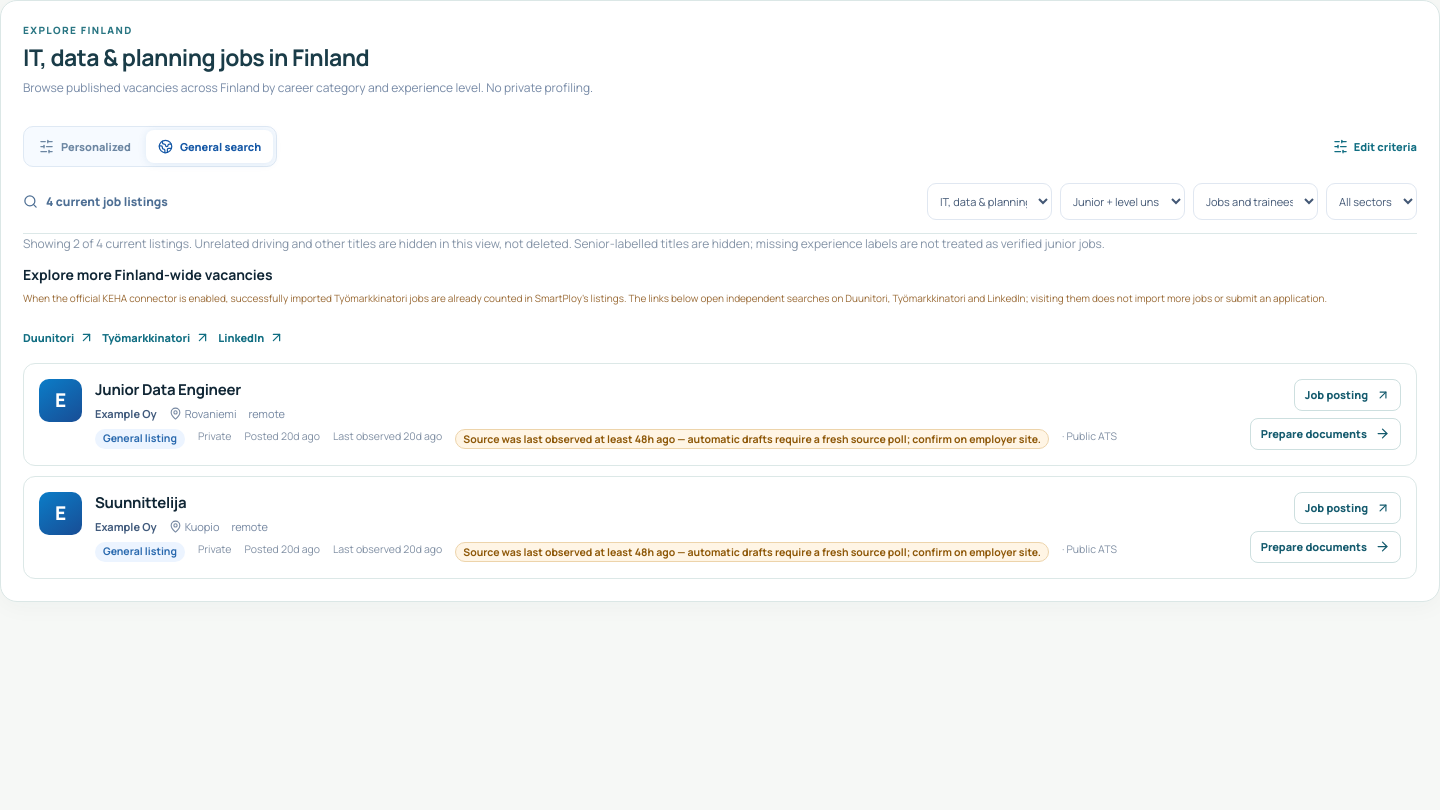
Finland-first IT, planning, and explicit all-jobs choice › one explicit filter reveals other occupations and senior-labelled roles
Select "All occupations" in the dropdown named "Career focus" at [990, 201], box [927,182,1052,220]
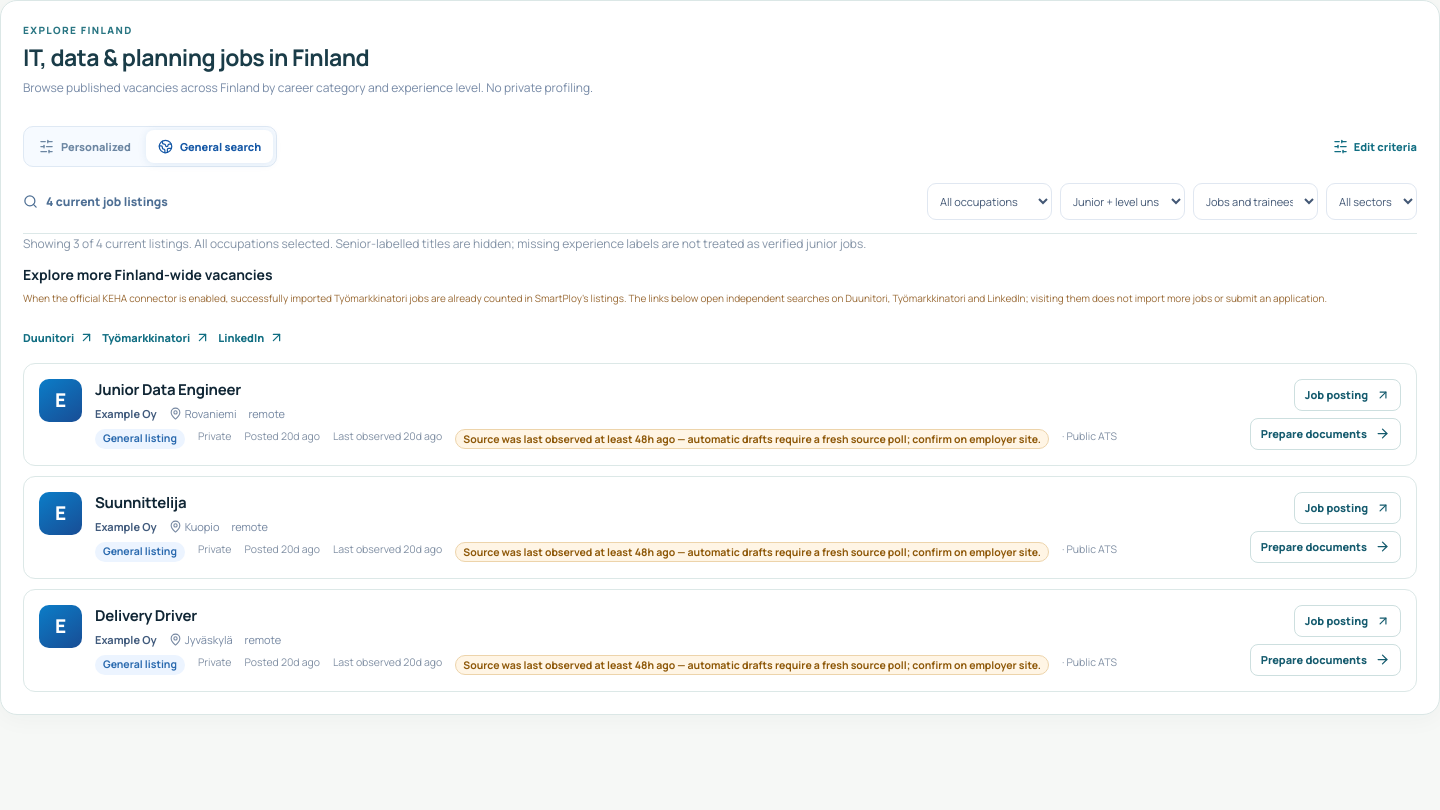
Expected: the text "Senior Software Engineer" is not shown
Expected: the heading "Delivery Driver" is shown, [95,605,197,626]
Select "All experience levels" in the dropdown named "Experience focus" at [1122, 201], box [1060,182,1185,220]
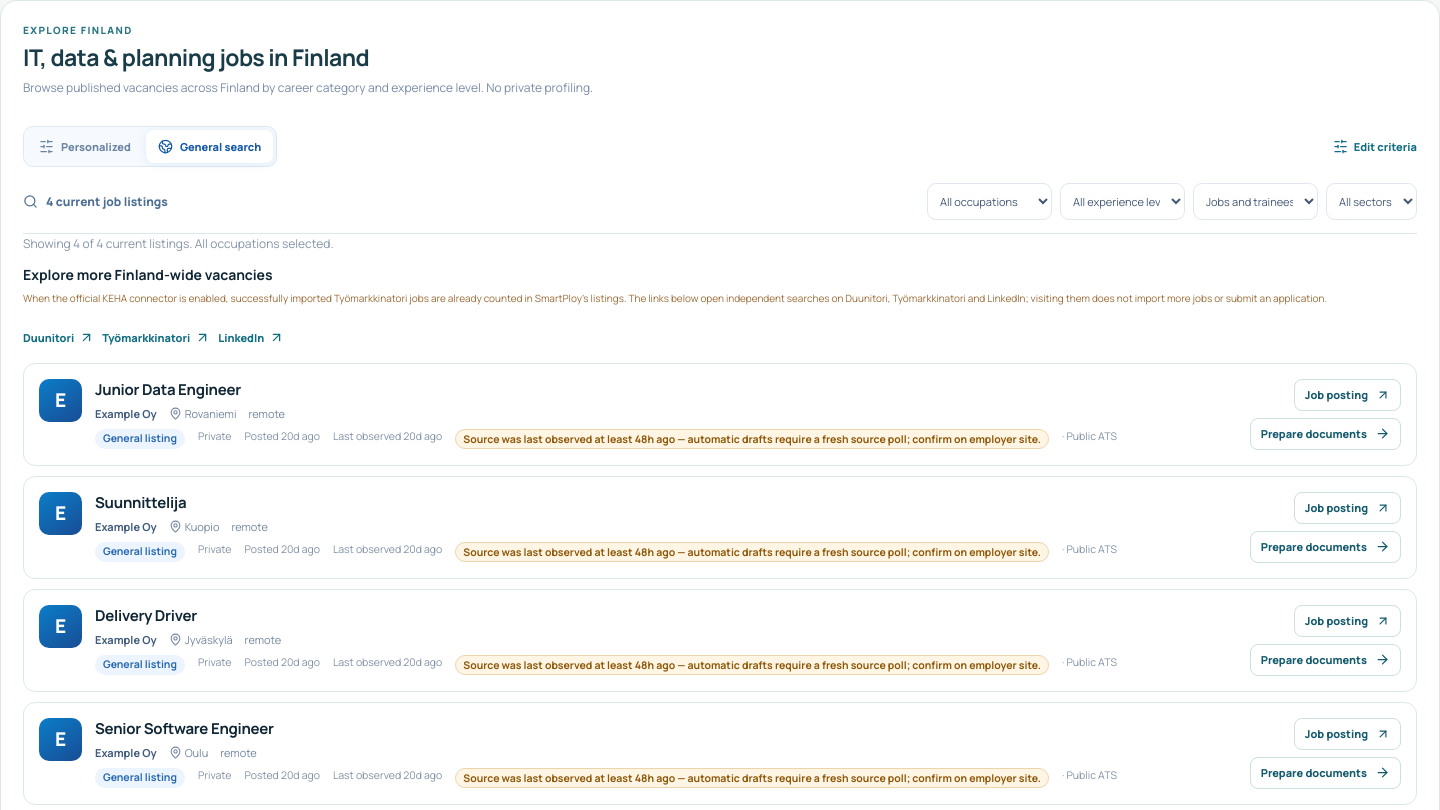
Expected: the heading "Senior Software Engineer" is shown, [95,718,274,739]
Expected: the text "Showing 4 of 4 current listings. All occupations selected." is shown, [23,234,334,252]
